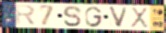7: (38, 4, 57, 27)
G: (84, 6, 104, 28)
R: (15, 4, 37, 27)
S: (62, 5, 84, 28)
V: (107, 6, 130, 29)
X: (129, 6, 150, 29)
